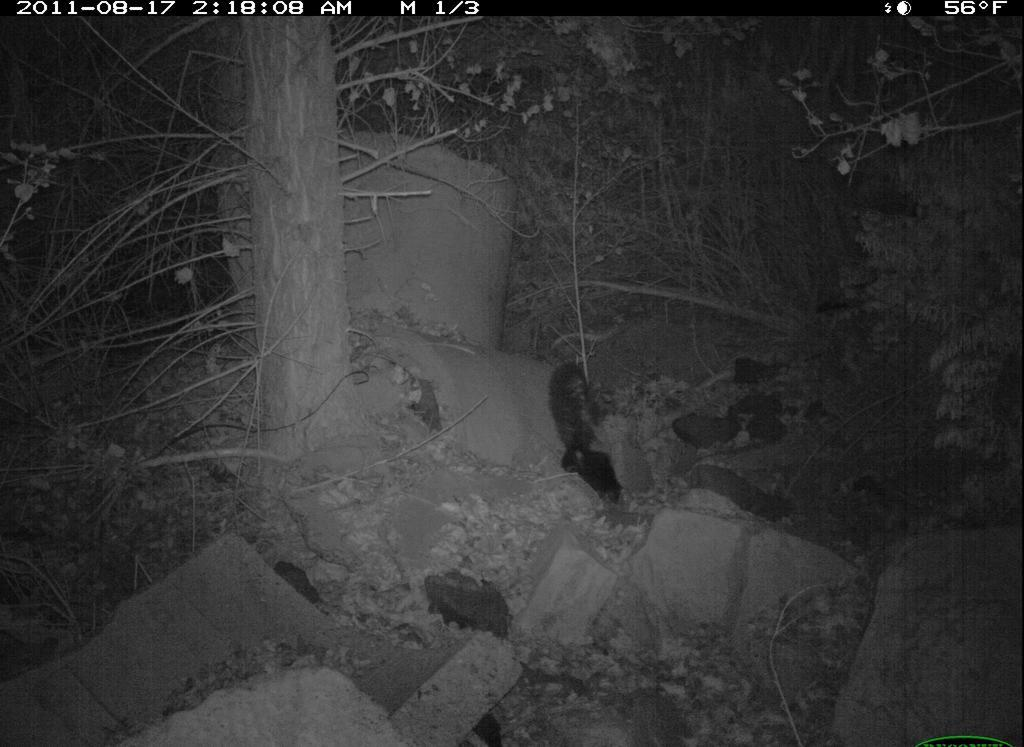skunk: (543, 355, 632, 510)
